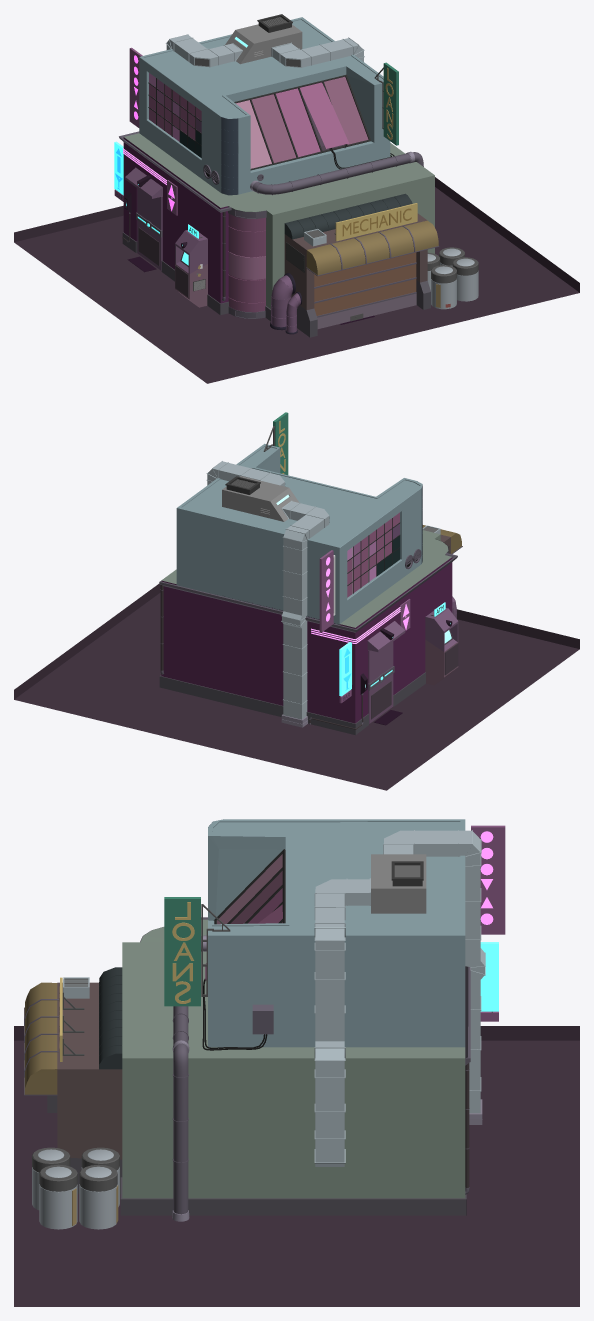
Rendered from cyberpunk_building_by_concept_jessealso.glb.
3 views of the same model, one above another, from view 1: azimuth 30°, elevation 25°; view 2: azimuth 150°, elevation 25°; view 3: azimuth 270°, elevation 25° (orthographic). The views are drawn at different scales.
Parts seen in each view (by area): view 1: Plane, Cube.001, Cube, Cube.021, Cube.012, Cube.008, Cube.050, Cube.057, Cube.004, Cube.005, Cylinder.002, Cube.020 (+20 smaller); view 2: Plane, Cube.021, Cube.001, Cube.004, Cube, Cube.020, Cube.007, Cube.026, Cube.038, Cube.036, Cube.019, Cube.018 (+4 smaller); view 3: Plane, Cube, Cube.001, Cube.004, Cube.005, Cylinder.003, Cube.008, Cube.024, NurbsPath.002, Cube.007, Cube.006, Cylinder.009 (+10 smaller).
Part boxes in pixels (bbox=[...]): Plane: bbox=[14, 177, 579, 383]; Cube.001: bbox=[139, 17, 390, 194]; Cube: bbox=[124, 133, 434, 321]; Cube.021: bbox=[122, 137, 228, 315]; Cube.012: bbox=[314, 252, 416, 328]; Cube.008: bbox=[306, 220, 438, 275]; Cube.050: bbox=[276, 82, 348, 157]; Cube.057: bbox=[251, 76, 368, 162]; Cube.004: bbox=[166, 34, 364, 67]; Cube.005: bbox=[284, 213, 430, 337]; Cylinder.002: bbox=[228, 214, 265, 312]; Cube.020: bbox=[175, 230, 207, 307]; Plane: bbox=[14, 584, 579, 790]; Cube.021: bbox=[159, 557, 452, 735]; Cube.001: bbox=[176, 443, 422, 624]; Cube.004: bbox=[206, 461, 329, 719]; Cube: bbox=[160, 530, 451, 676]; Cube.020: bbox=[425, 608, 458, 685]; Cube.007: bbox=[222, 476, 299, 521]; Cube.026: bbox=[368, 642, 393, 723]; Cube.038: bbox=[347, 512, 399, 597]; Cube.036: bbox=[159, 553, 457, 632]; Cube.019: bbox=[319, 550, 333, 632]; Cube.018: bbox=[339, 642, 351, 703]; Plane: bbox=[14, 1026, 579, 1306]; Cube: bbox=[120, 919, 466, 1215]; Cube.001: bbox=[208, 819, 465, 1047]; Cube.004: bbox=[314, 830, 485, 1166]; Cube.005: bbox=[47, 982, 122, 1193]; Cylinder.003: bbox=[32, 1149, 119, 1229]; Cube.008: bbox=[24, 982, 57, 1094]; Cube.024: bbox=[164, 897, 200, 1006]; NurbsPath.002: bbox=[172, 936, 201, 1214]; Cube.007: bbox=[371, 854, 426, 913]; Cube.006: bbox=[99, 967, 122, 1069]; Cylinder.009: bbox=[32, 1147, 119, 1191].
Size of what is drawn, in the model's own units: 60.33 by 33.3 by 54.19.
